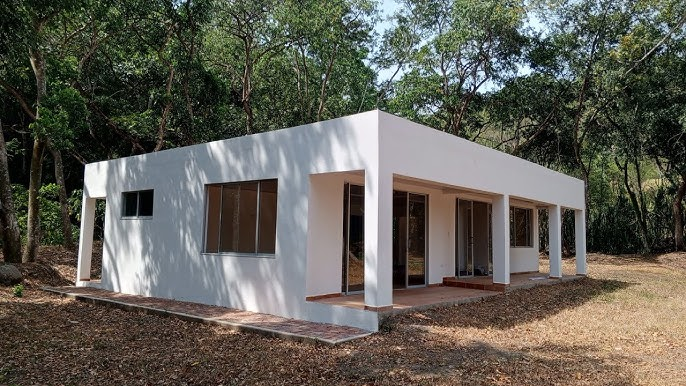House: (76, 135, 617, 347)
